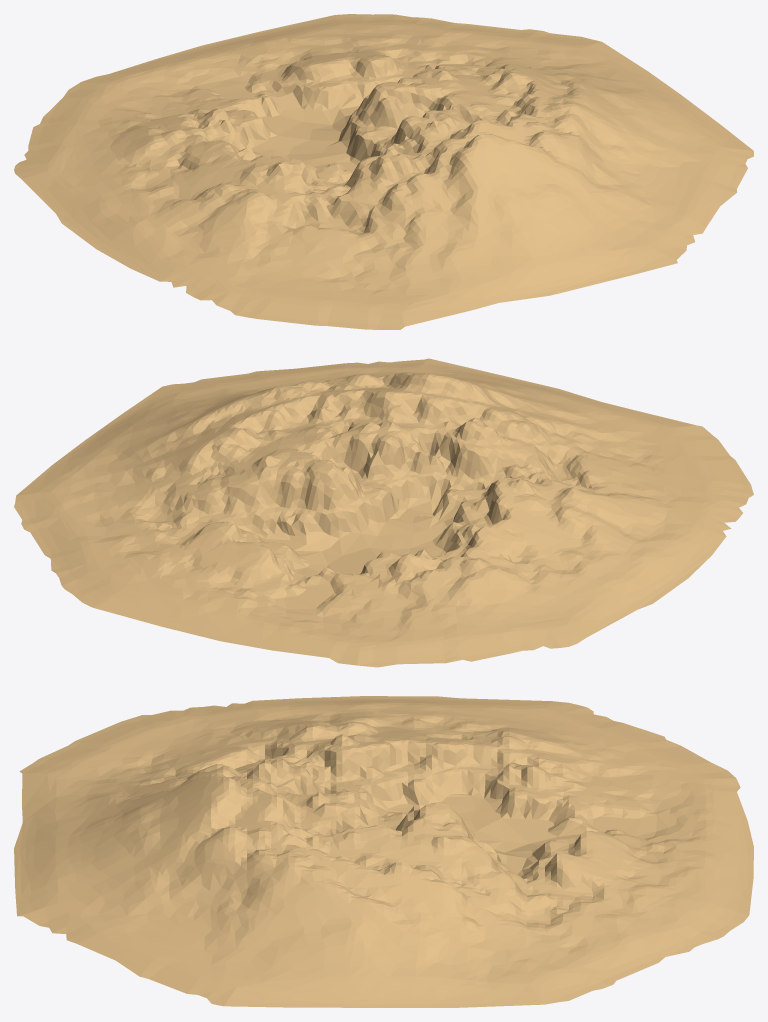
Rendered from MT_Island_L_f_03_LOD.fbx.
3 renders of one model, top to bottom at view 1: azimuth 30°, elevation 25°; view 2: azimuth 150°, elevation 25°; view 3: azimuth 270°, elevation 25°, orthographic. The views are drawn at different scales.
Visible parts, largest first — view 1: MT_Island_L_f_03_LOD0; view 2: MT_Island_L_f_03_LOD0; view 3: MT_Island_L_f_03_LOD0.
Boxes of the visible parts, box(x1,y1,x2,y2) form: MT_Island_L_f_03_LOD0: box(14, 14, 753, 329); MT_Island_L_f_03_LOD0: box(14, 358, 753, 667); MT_Island_L_f_03_LOD0: box(14, 696, 753, 1007).
Size of what is drawn, in the model's own units: 19554 by 2539 by 19557.
